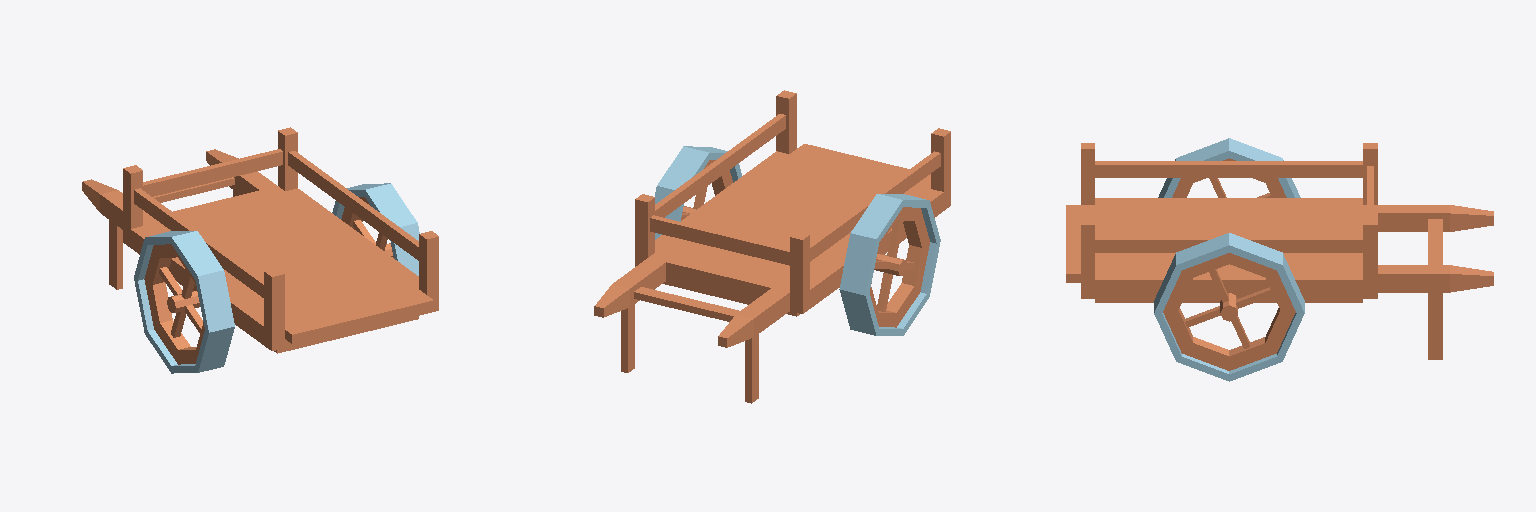
Rendered from cart.obj.
3 views of the same model, side by side, from view 1: azimuth 30°, elevation 25°; view 2: azimuth 150°, elevation 25°; view 3: azimuth 270°, elevation 25° (orthographic).
Parts seen in each view (by area): view 1: cart, wheel; view 2: cart, wheel; view 3: cart, wheel.
Part boxes in pixels (bbox=[...]): cart: bbox=[82, 127, 438, 353]; wheel: bbox=[134, 183, 419, 373]; cart: bbox=[594, 90, 950, 403]; wheel: bbox=[655, 146, 940, 335]; cart: bbox=[1066, 143, 1493, 359]; wheel: bbox=[1154, 138, 1304, 381].
Bounding box in the file's own units: 0.8525 × 0.5355 × 1.44.